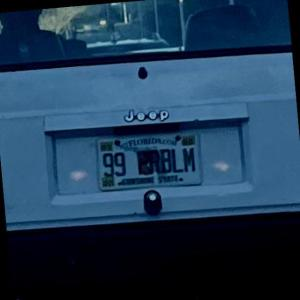Plate: (94, 130, 204, 192)
